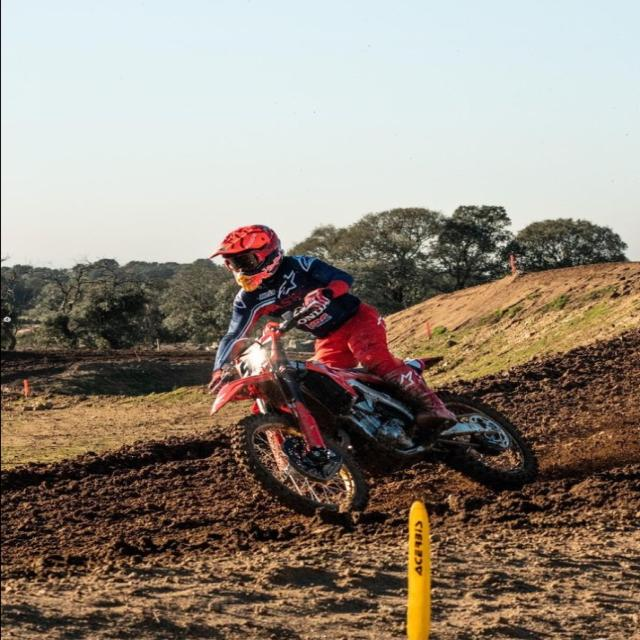illegal_helmet: (205, 223, 288, 295)
